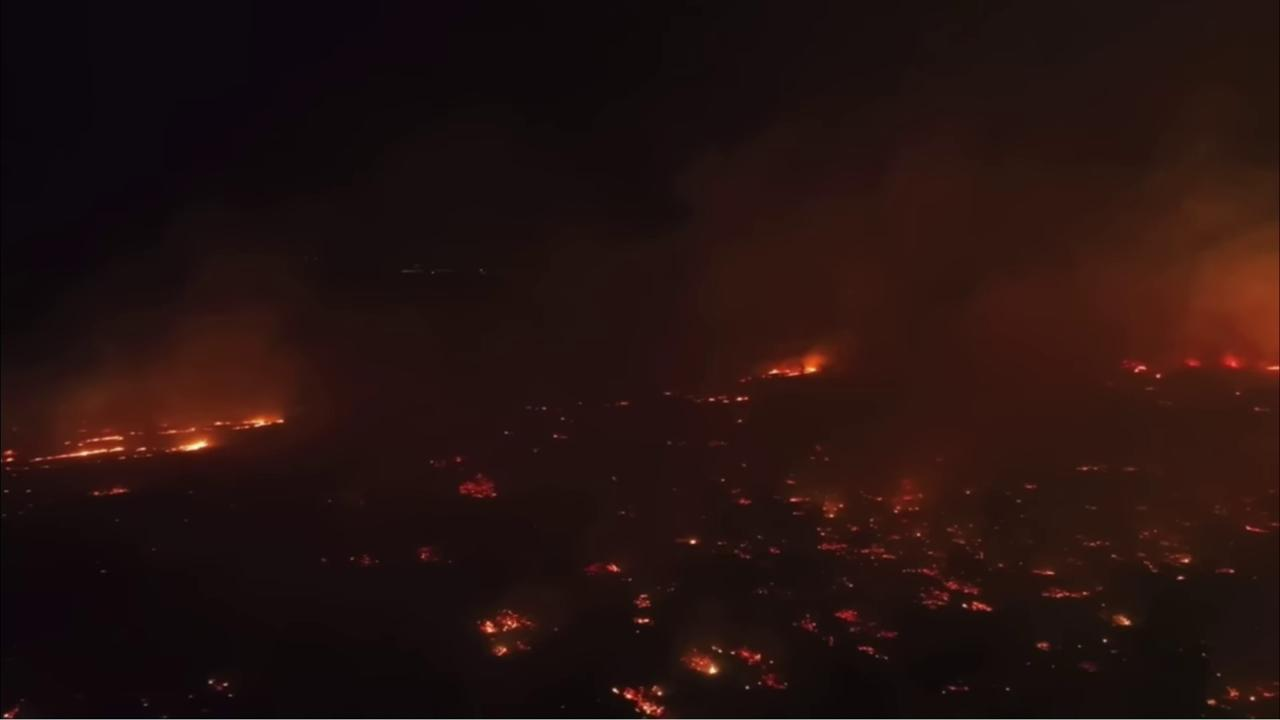fire: (901, 564, 985, 596), (609, 681, 667, 719), (783, 492, 852, 520), (472, 605, 541, 632), (31, 446, 128, 464), (678, 641, 725, 678), (452, 469, 500, 501), (212, 413, 287, 431), (807, 526, 849, 558), (890, 479, 926, 516), (765, 360, 820, 381), (482, 637, 537, 657), (62, 430, 126, 447), (855, 538, 897, 563), (1034, 584, 1095, 601), (912, 586, 952, 611), (162, 438, 211, 455), (731, 643, 764, 667), (154, 421, 199, 436), (758, 672, 791, 692), (582, 561, 625, 576), (833, 607, 868, 625), (410, 545, 442, 564), (85, 485, 131, 497), (963, 598, 995, 615), (792, 613, 819, 633), (850, 641, 880, 659), (346, 553, 381, 568), (1118, 358, 1149, 374), (1109, 613, 1135, 629), (1167, 550, 1193, 566), (1224, 354, 1246, 372), (1033, 637, 1055, 653), (632, 592, 652, 609), (1030, 566, 1058, 577), (766, 543, 785, 559), (877, 629, 901, 641), (1180, 356, 1204, 368), (634, 614, 656, 627), (1244, 523, 1270, 534), (1223, 685, 1240, 701), (2, 704, 19, 720), (2, 447, 17, 465), (735, 496, 757, 507), (1215, 567, 1236, 577), (1263, 361, 1279, 374), (1021, 481, 1039, 491), (1205, 696, 1216, 709), (685, 539, 700, 548), (827, 634, 836, 649), (735, 395, 753, 402), (135, 445, 148, 454), (1175, 574, 1188, 582), (129, 430, 145, 436), (618, 400, 630, 408), (221, 681, 230, 689), (706, 396, 717, 402), (207, 679, 216, 686)
smoke: (0, 0, 1280, 719)
